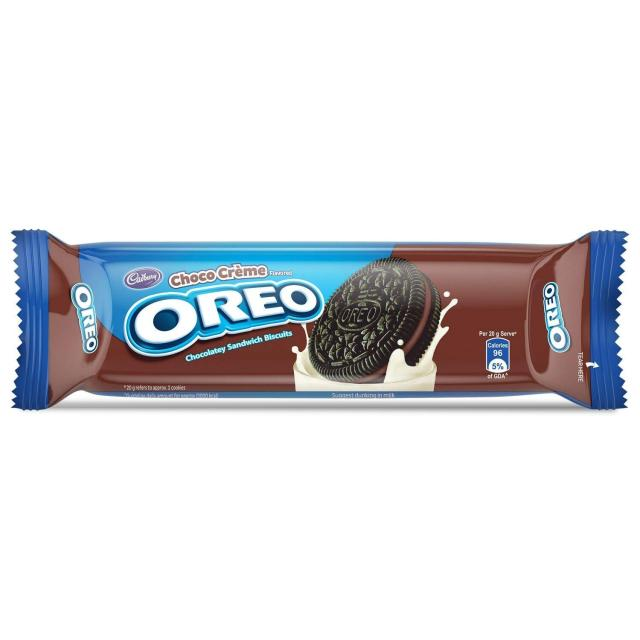oreo: (20, 237, 620, 396)
